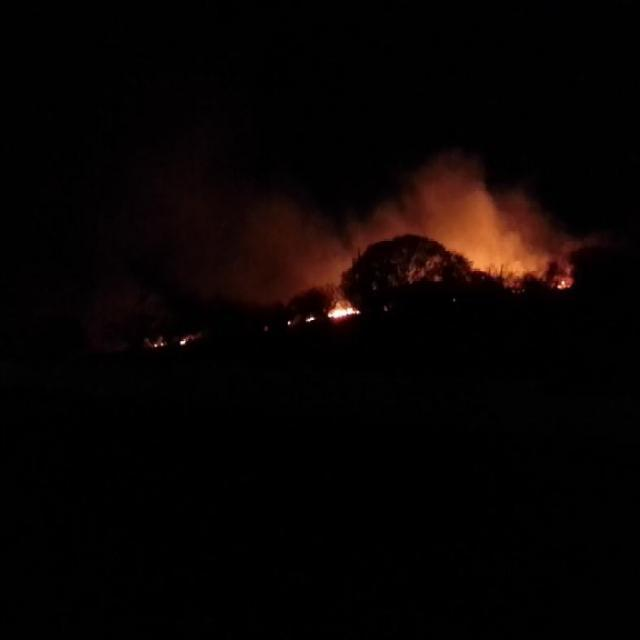Fire: (294, 300, 364, 324), (554, 269, 574, 290)
